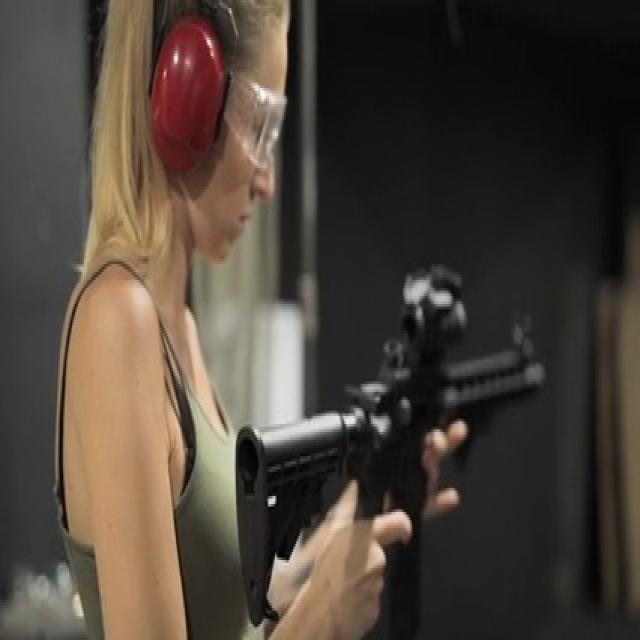Gun_Holder: (217, 248, 616, 640)
Person: (56, 0, 412, 640)
